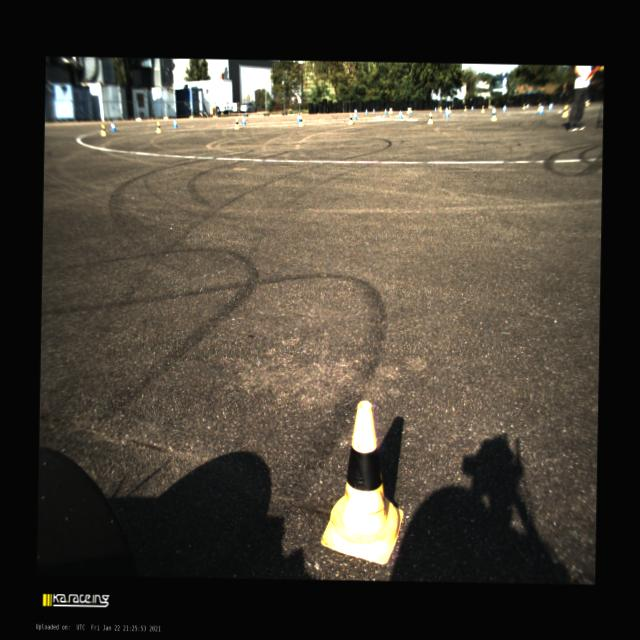blue_cone: (172, 118, 178, 128), (110, 122, 116, 131), (241, 116, 246, 124), (444, 108, 449, 116), (353, 112, 357, 120), (398, 110, 402, 118), (538, 106, 542, 114), (364, 108, 368, 115), (296, 113, 299, 122), (502, 105, 505, 112), (548, 103, 551, 110), (384, 107, 386, 114), (408, 108, 410, 114), (372, 108, 374, 113), (526, 104, 528, 108), (470, 106, 472, 110), (434, 107, 436, 111)
yellow_cone: (320, 400, 404, 565), (427, 112, 433, 124), (100, 125, 106, 136), (156, 120, 161, 132), (234, 118, 239, 129), (298, 115, 303, 126), (561, 106, 566, 117), (491, 111, 496, 121), (348, 114, 352, 125), (480, 104, 484, 112), (439, 105, 442, 112), (448, 106, 451, 112), (522, 103, 525, 109), (389, 108, 392, 112), (463, 106, 466, 110)
